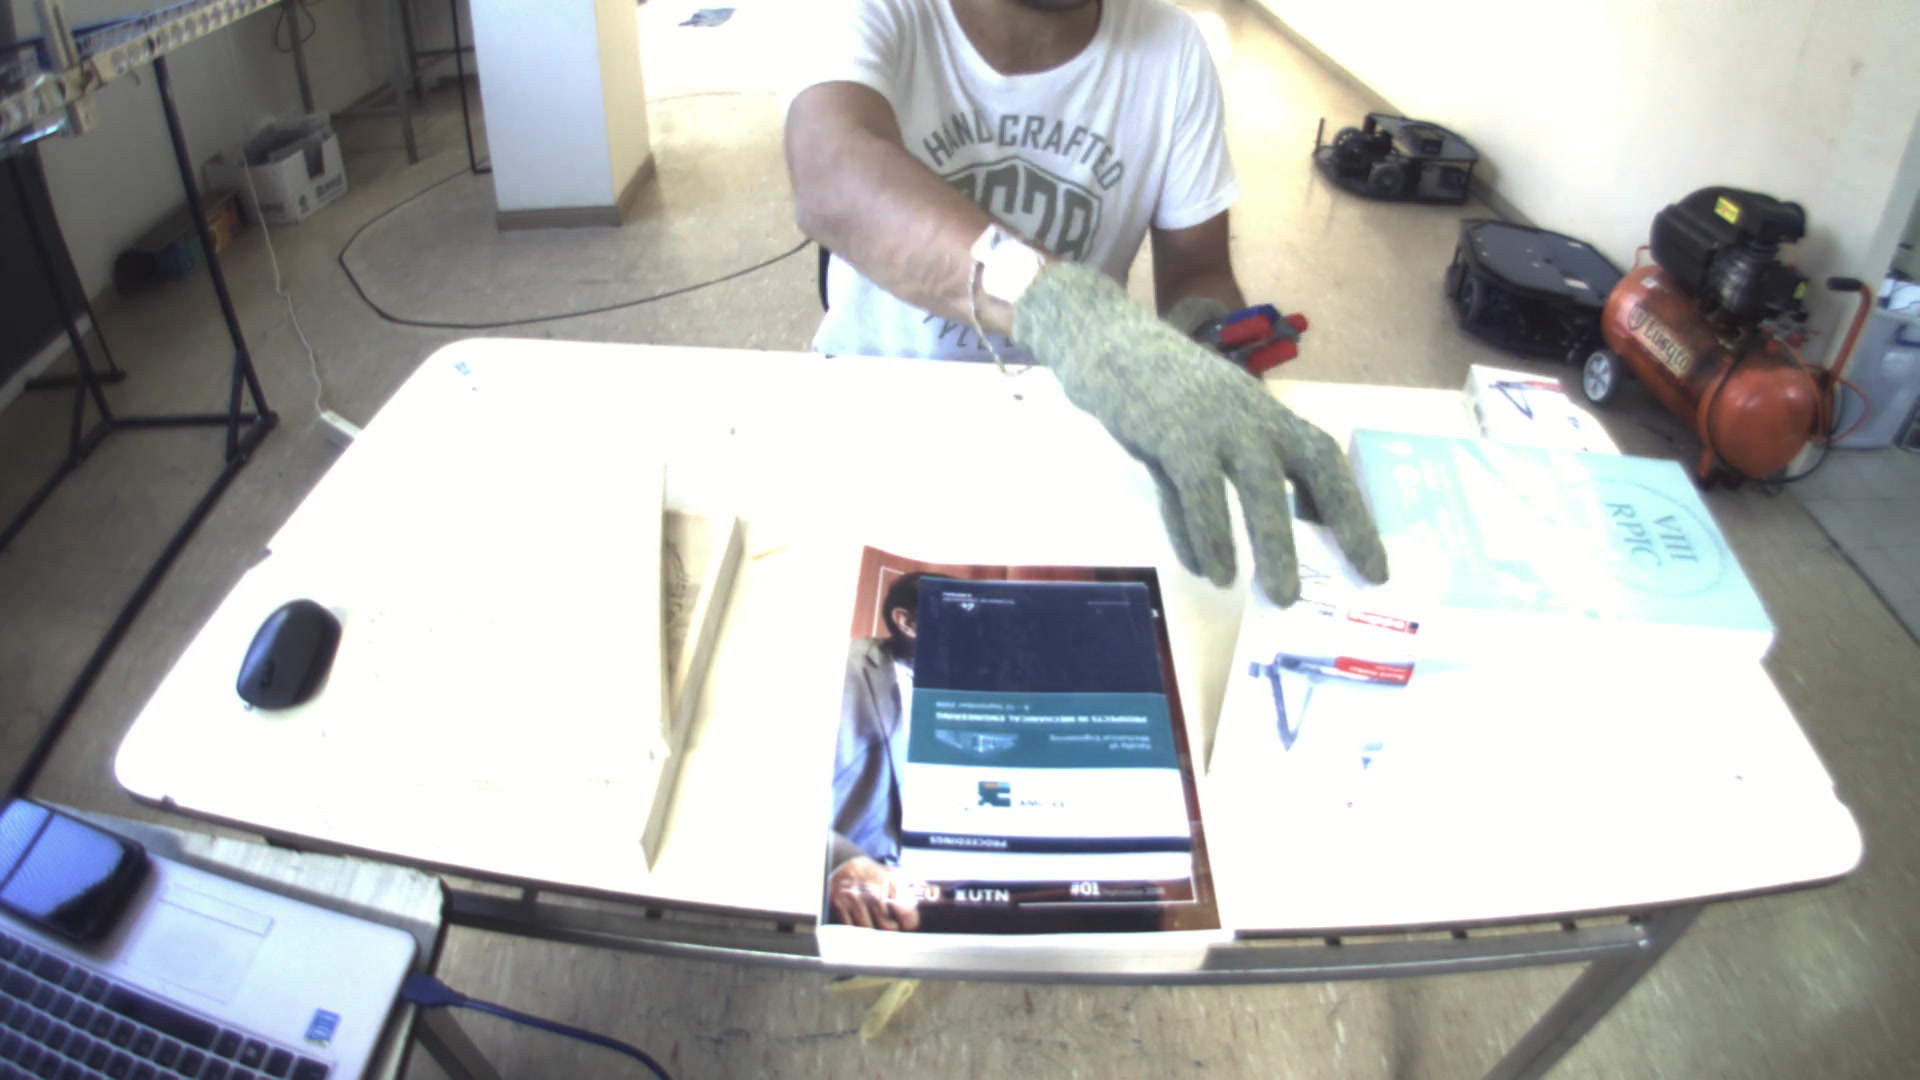hand: (989, 262, 1403, 603)
